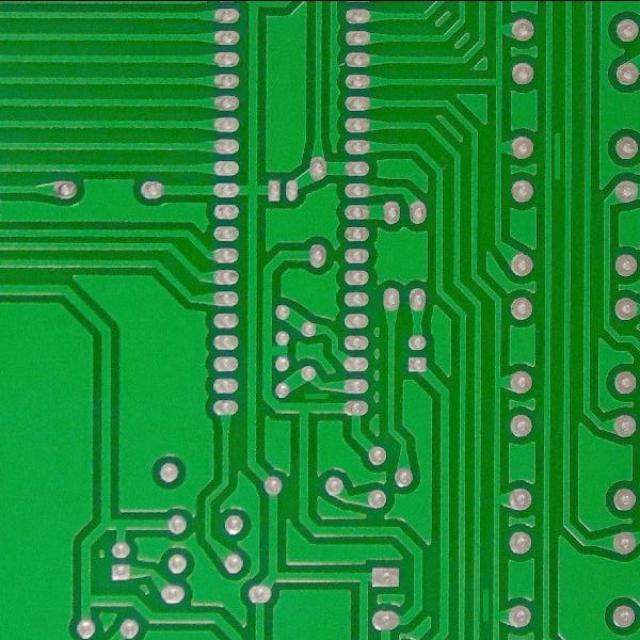spurious_copper: (548, 126, 569, 187), (476, 586, 496, 626)
